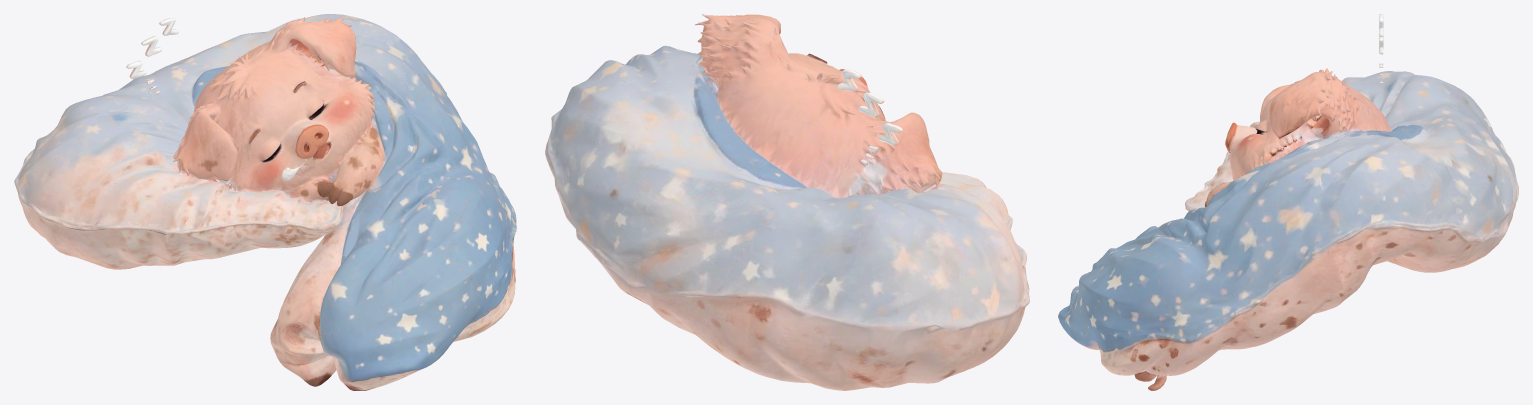
The model's file is sleepy-piglet.glb.
3 renders of one model, left to right at view 1: azimuth 30°, elevation 25°; view 2: azimuth 150°, elevation 25°; view 3: azimuth 270°, elevation 25°, orthographic. The views are drawn at different scales.
Bounding box in the file's own units: 1.9 × 1.4 × 1.88.
1 material, 1 textured.
